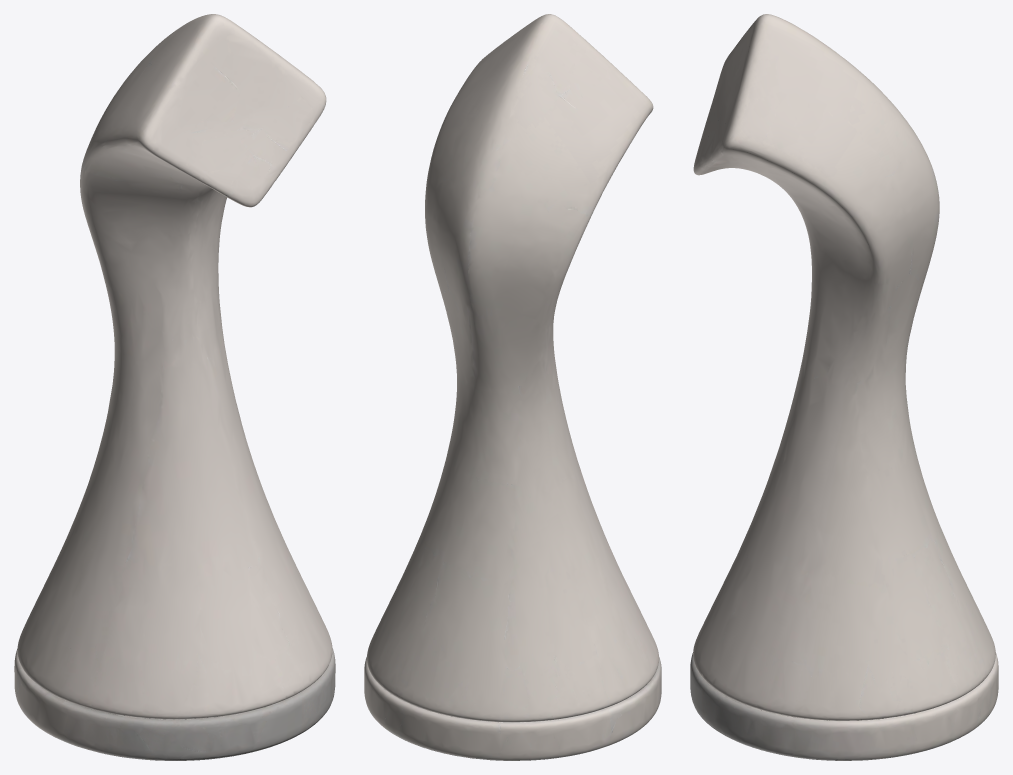
File: knight-white-hd.glb
The picture shows the model from 3 angles, left to right: view 1: azimuth 30°, elevation 25°; view 2: azimuth 150°, elevation 25°; view 3: azimuth 270°, elevation 25°; orthographic projection. The views are drawn at different scales.
Size of the model in its own units: 0.4927 by 1.2 by 0.4915.
Materials: 1 (1 with a texture image).
